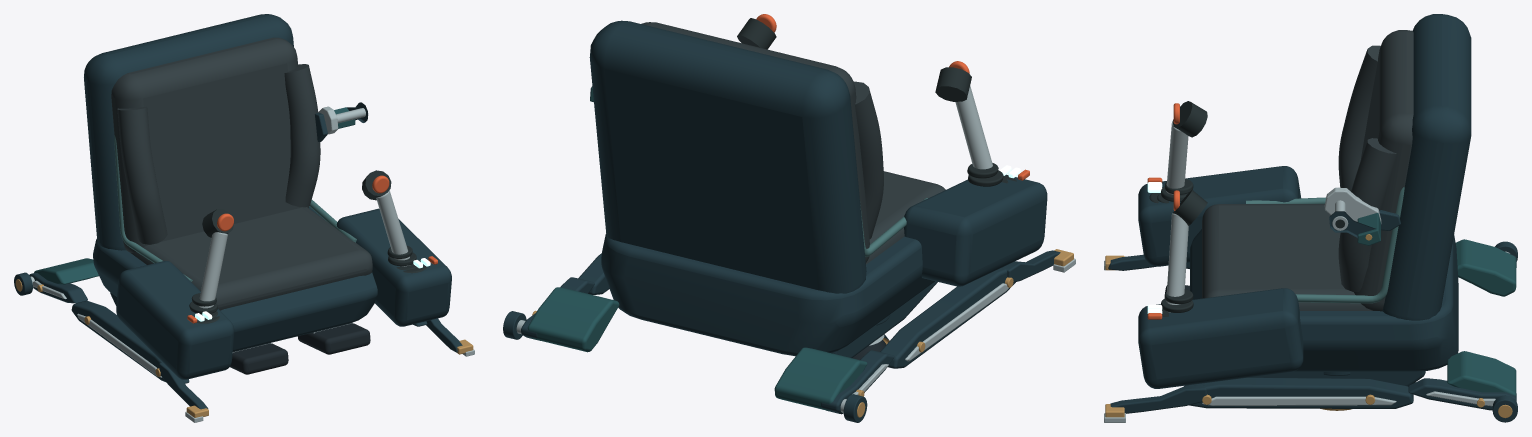
Rendered from SM_Mk2_Cabin_Interior.fbx.
The picture shows the model from 3 angles, left to right: view 1: azimuth 30°, elevation 25°; view 2: azimuth 150°, elevation 25°; view 3: azimuth 270°, elevation 25°; orthographic projection. The views are drawn at different scales.
Visible parts, largest first — view 1: SM_Mk2_Cabin_Interior; view 2: SM_Mk2_Cabin_Interior; view 3: SM_Mk2_Cabin_Interior.
Boxes of the visible parts, box(x1,y1,x2,y2) form: SM_Mk2_Cabin_Interior: box(14, 14, 474, 422); SM_Mk2_Cabin_Interior: box(503, 14, 1075, 422); SM_Mk2_Cabin_Interior: box(1104, 14, 1517, 422).
Size of the model in its own units: 46.4 by 50.9 by 40.57.
